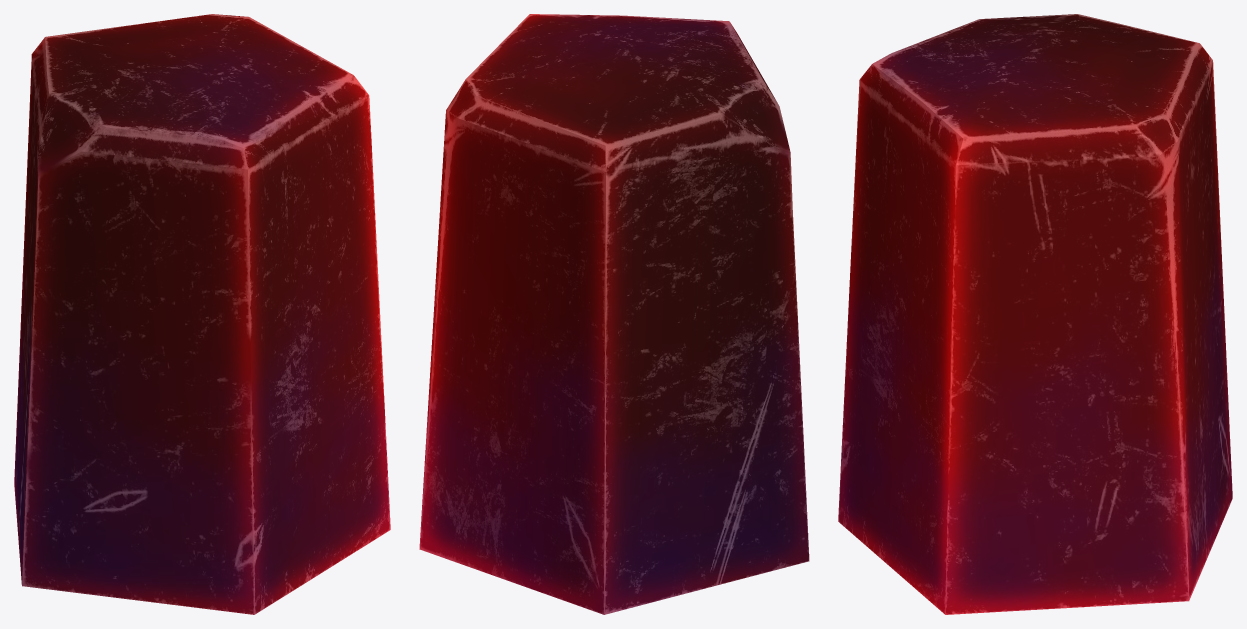
Rendered from magic_crystal.glb.
3 views of the same model, side by side, from view 1: azimuth 30°, elevation 25°; view 2: azimuth 150°, elevation 25°; view 3: azimuth 270°, elevation 25° (orthographic).
Visible parts, largest first — view 1: Crystal_optimize1; view 2: Crystal_optimize1; view 3: Crystal_optimize1.
Boxes of the visible parts, x1,y1,x2,y2 form: Crystal_optimize1: [14, 14, 390, 614]; Crystal_optimize1: [419, 14, 809, 614]; Crystal_optimize1: [838, 14, 1232, 614].
Size of the model in its own units: 1.42 by 2 by 1.43.
Materials: 1 (1 with a texture image).
